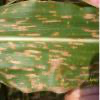Corn Gray leaf spot: (2, 2, 97, 93)
